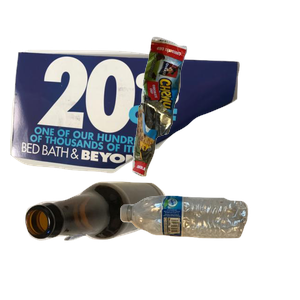glass: (23, 179, 183, 300)
paper: (10, 41, 242, 207)
plastic: (118, 193, 300, 300)
trash: (130, 34, 300, 203)
